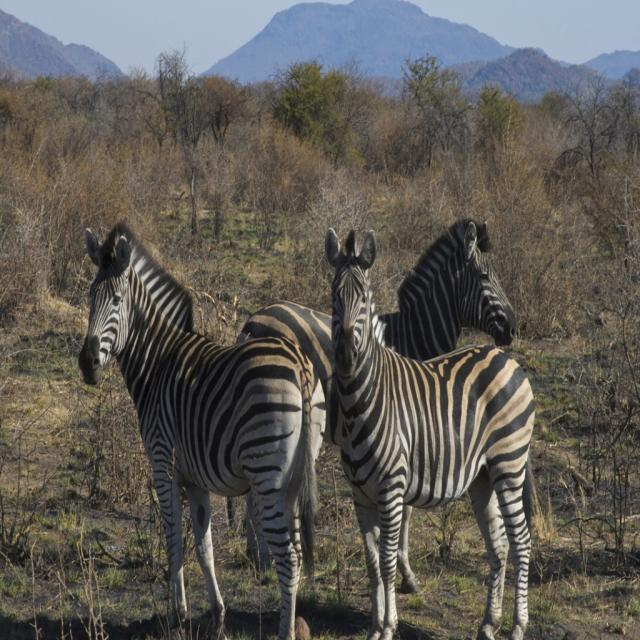zebra: (50, 186, 326, 581), (296, 202, 552, 611), (368, 165, 583, 418)
